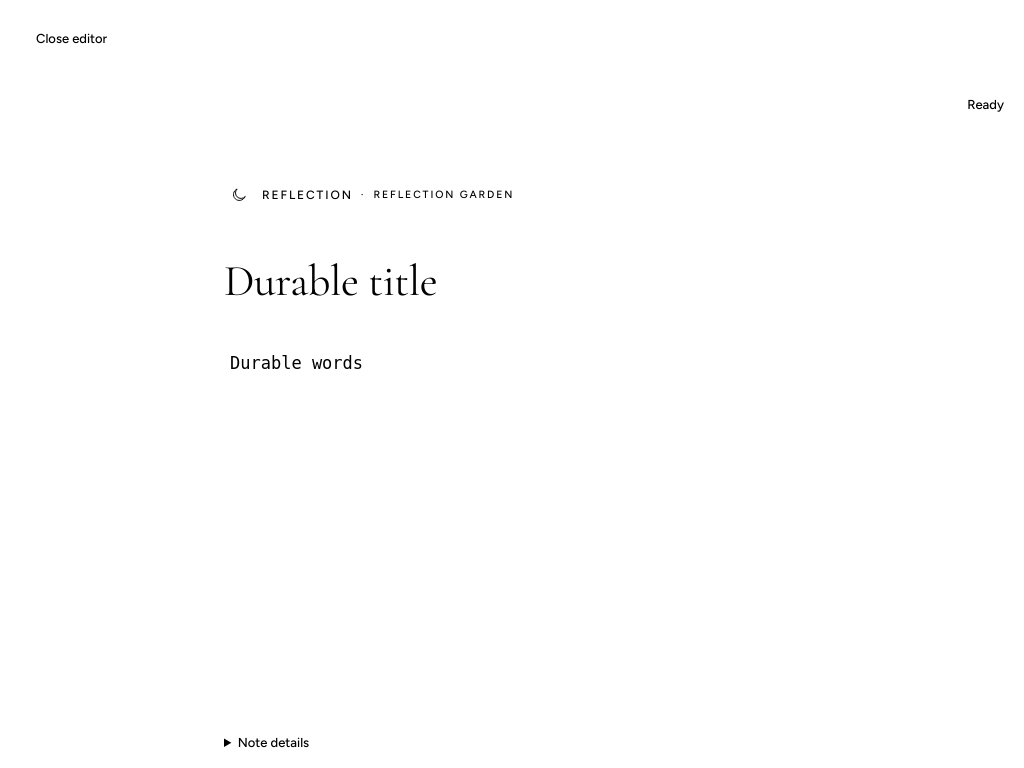
Scenario: keeps the editor open after a failed close flush and offers a retry
Replace the text in the field named "title" with "Waiting safely". click: (512, 281)
box: [224,258,800,304]
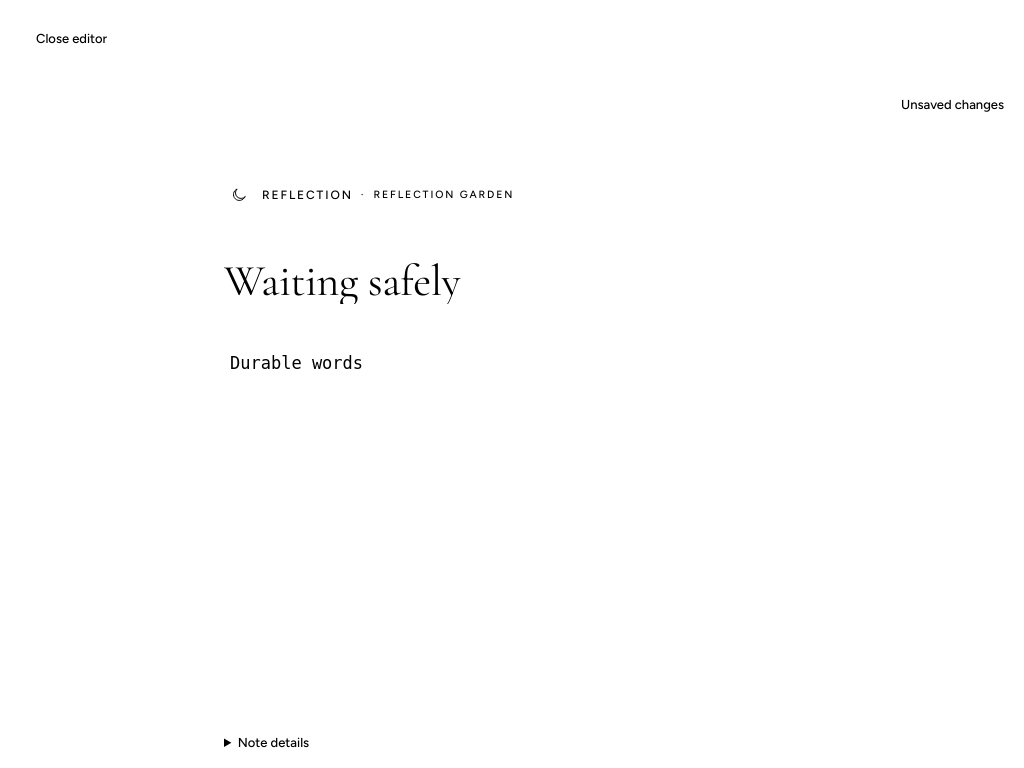
Click the button "Close editor". click: (72, 38)
box: [20,16,123,60]
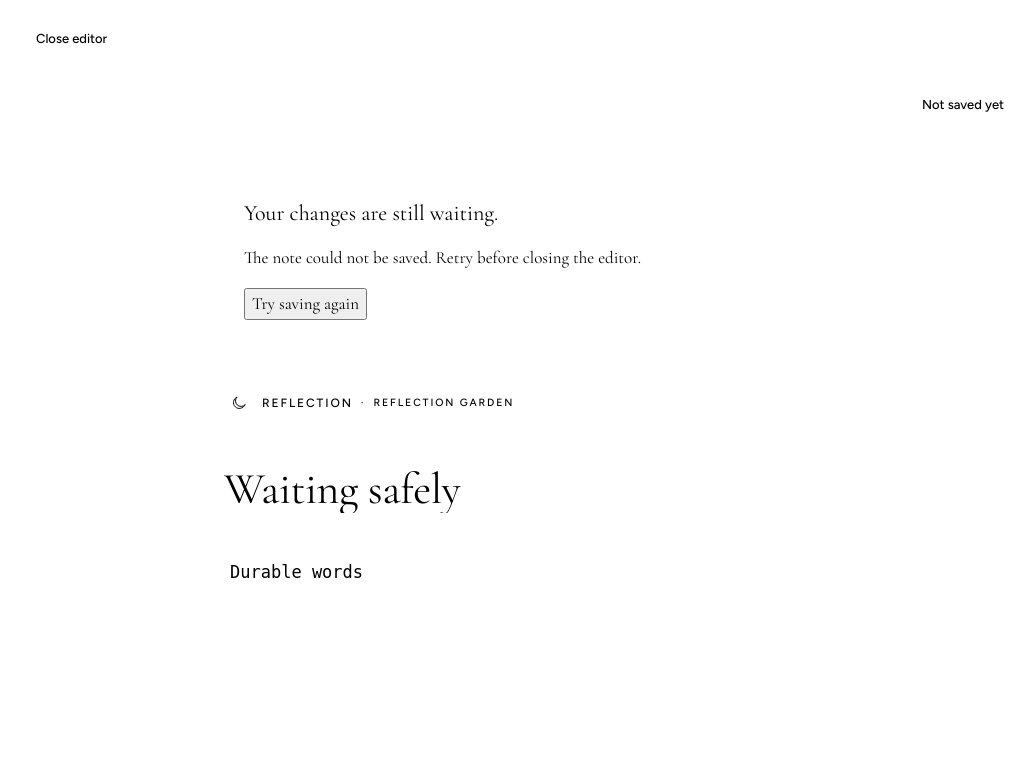
Check: the button "Try saving again" is enabled, box [244,288,367,320]
